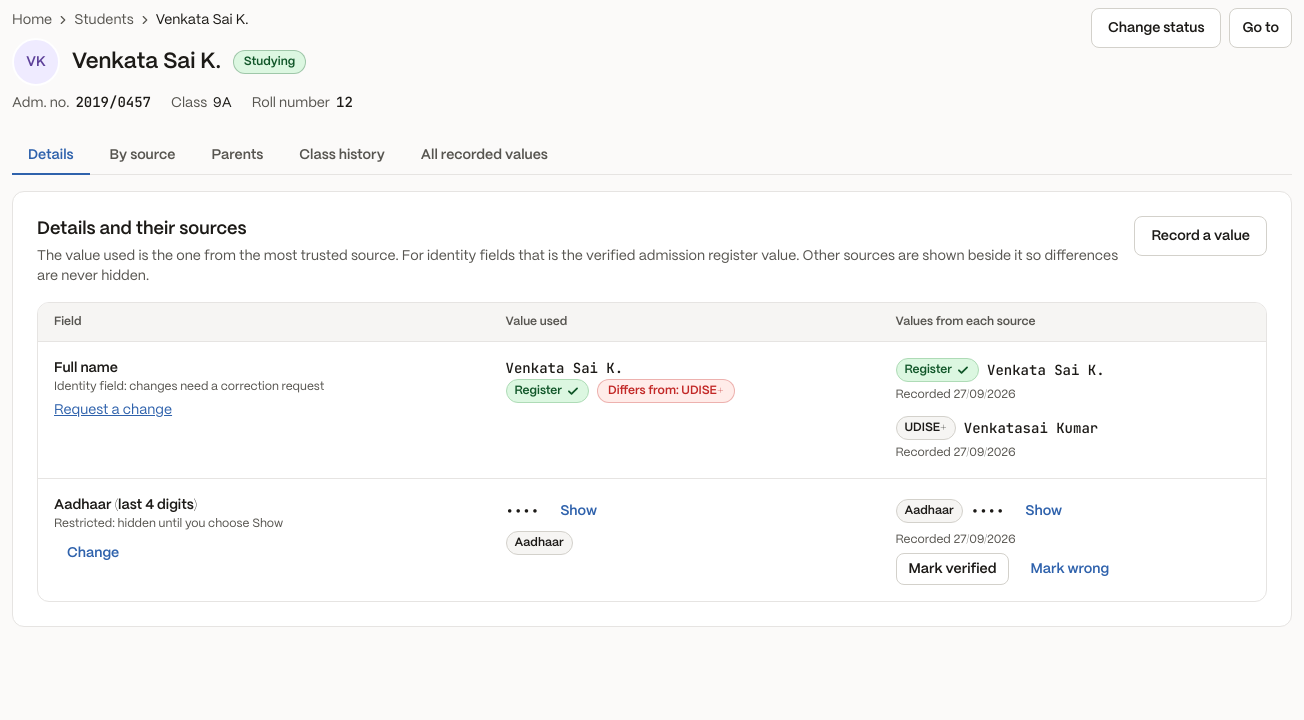
Test: US-301: a student's values with their sources › shows every source side by side, and keeps restricted values hidden until Show
Expected: the heading "Venkata Sai K." is shown, [12,38,221,86]
Expected: the text "Venkatasai Kumar" is shown, [964,418,1098,438]
What coordinates should you click on to do the following:
click the 1st button "Show"
I would click on:
 (579, 511)
Its box is [547,495,610,527].
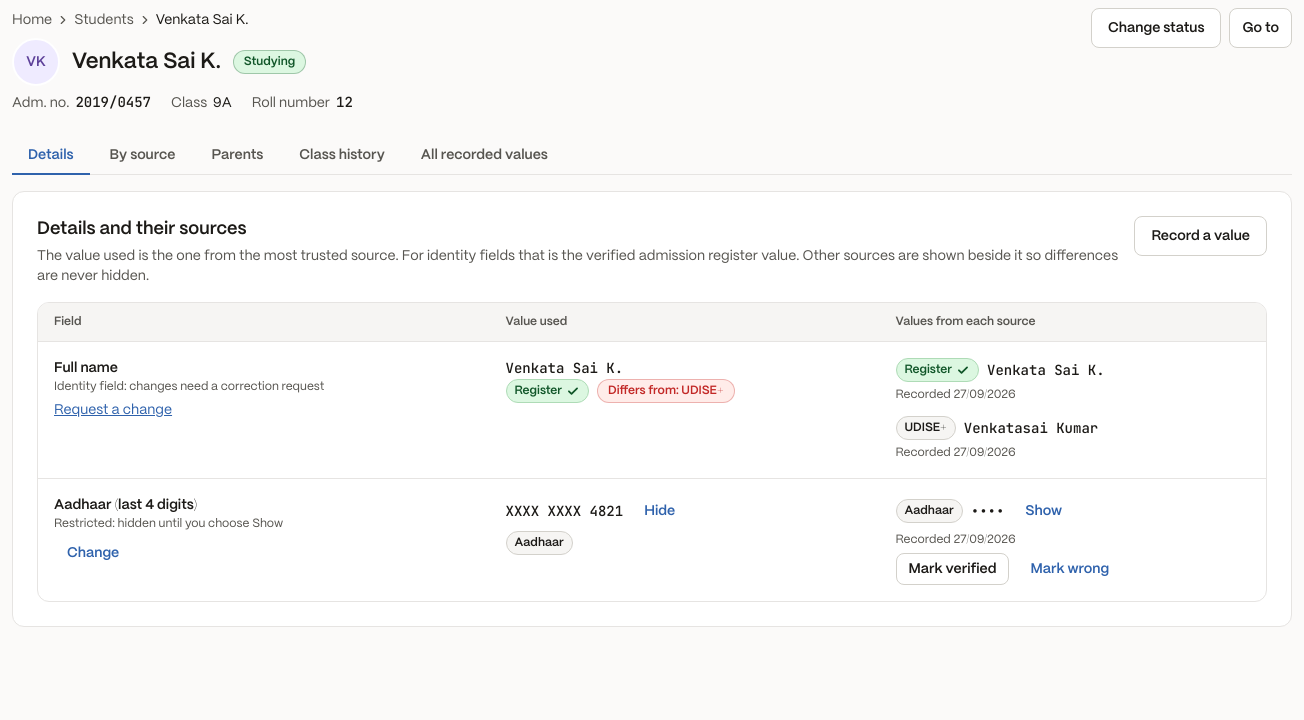
Expected: the text "XXXX XXXX 4821" is shown, [506,501,623,521]
